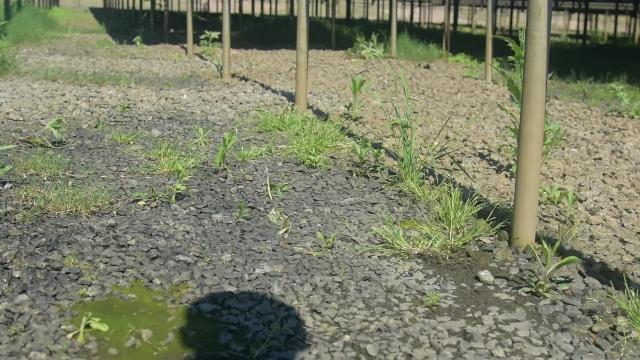MalezaMontesDelPlata: (375, 54, 482, 192), (487, 20, 567, 186), (359, 180, 500, 254), (131, 120, 218, 207), (1, 179, 119, 226), (525, 221, 580, 300), (285, 114, 350, 168), (0, 141, 79, 180), (602, 268, 640, 345), (0, 109, 74, 146), (209, 130, 271, 171), (340, 70, 381, 125), (246, 100, 305, 135), (340, 130, 386, 171), (341, 31, 389, 65), (608, 80, 640, 131), (87, 122, 152, 146), (301, 228, 343, 260), (248, 171, 293, 200), (196, 26, 224, 70), (262, 205, 298, 235), (231, 196, 249, 224)
MusgoMontesDelPlata: (60, 277, 265, 360)
